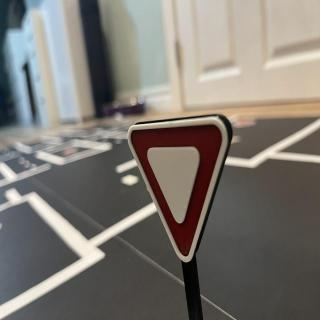sign_yield: (129, 116, 235, 266)
